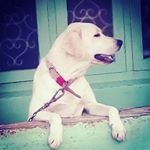puppy: (24, 20, 127, 147)
